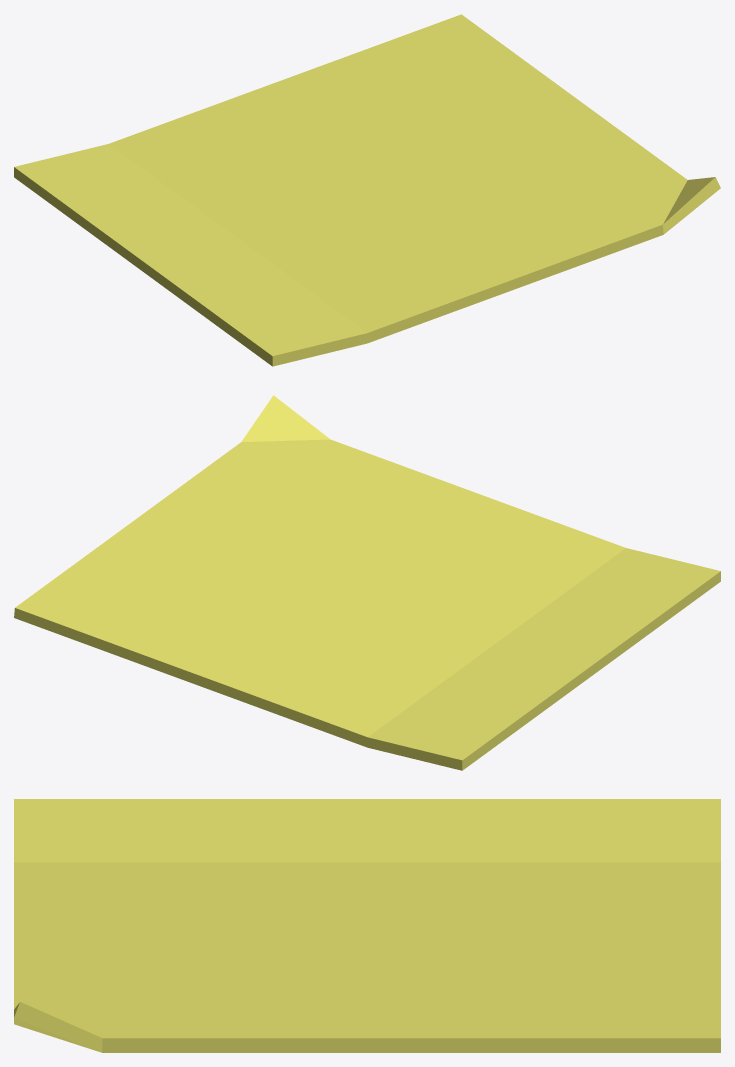
Rendered from note.fbx.
3 renders of one model, top to bottom at view 1: azimuth 30°, elevation 25°; view 2: azimuth 150°, elevation 25°; view 3: azimuth 270°, elevation 25°, orthographic. The views are drawn at different scales.
Parts seen in each view (by area): view 1: Plane; view 2: Plane; view 3: Plane.
Boxes of the visible parts, left/top/right/bottom form: Plane: left=14, top=14, right=720, bottom=366; Plane: left=14, top=395, right=720, bottom=770; Plane: left=14, top=799, right=720, bottom=1052.
Size of the model in its own units: 107 by 18.1 by 107.
